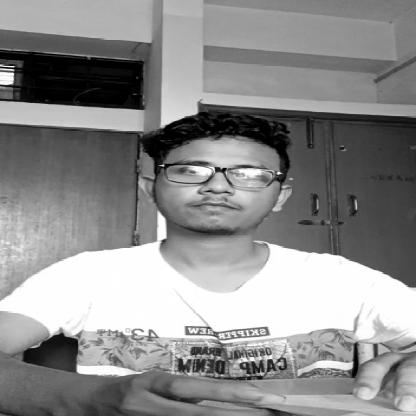Normal: (144, 116, 286, 237)
